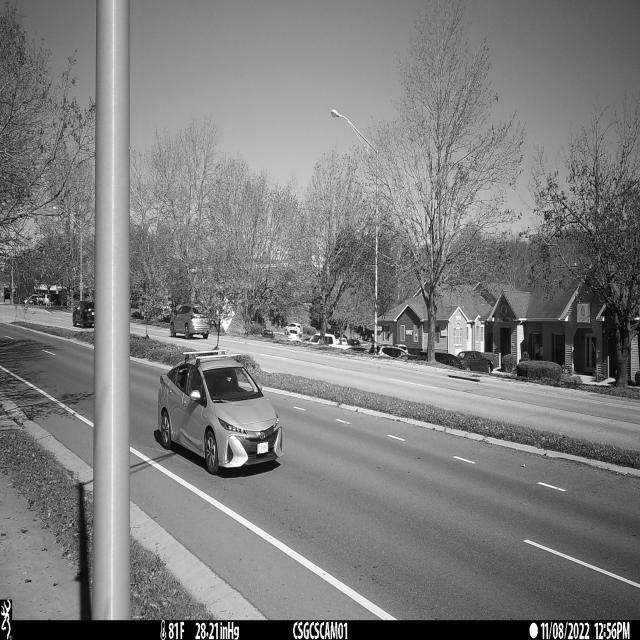Hatchback: (154, 355, 283, 478)
